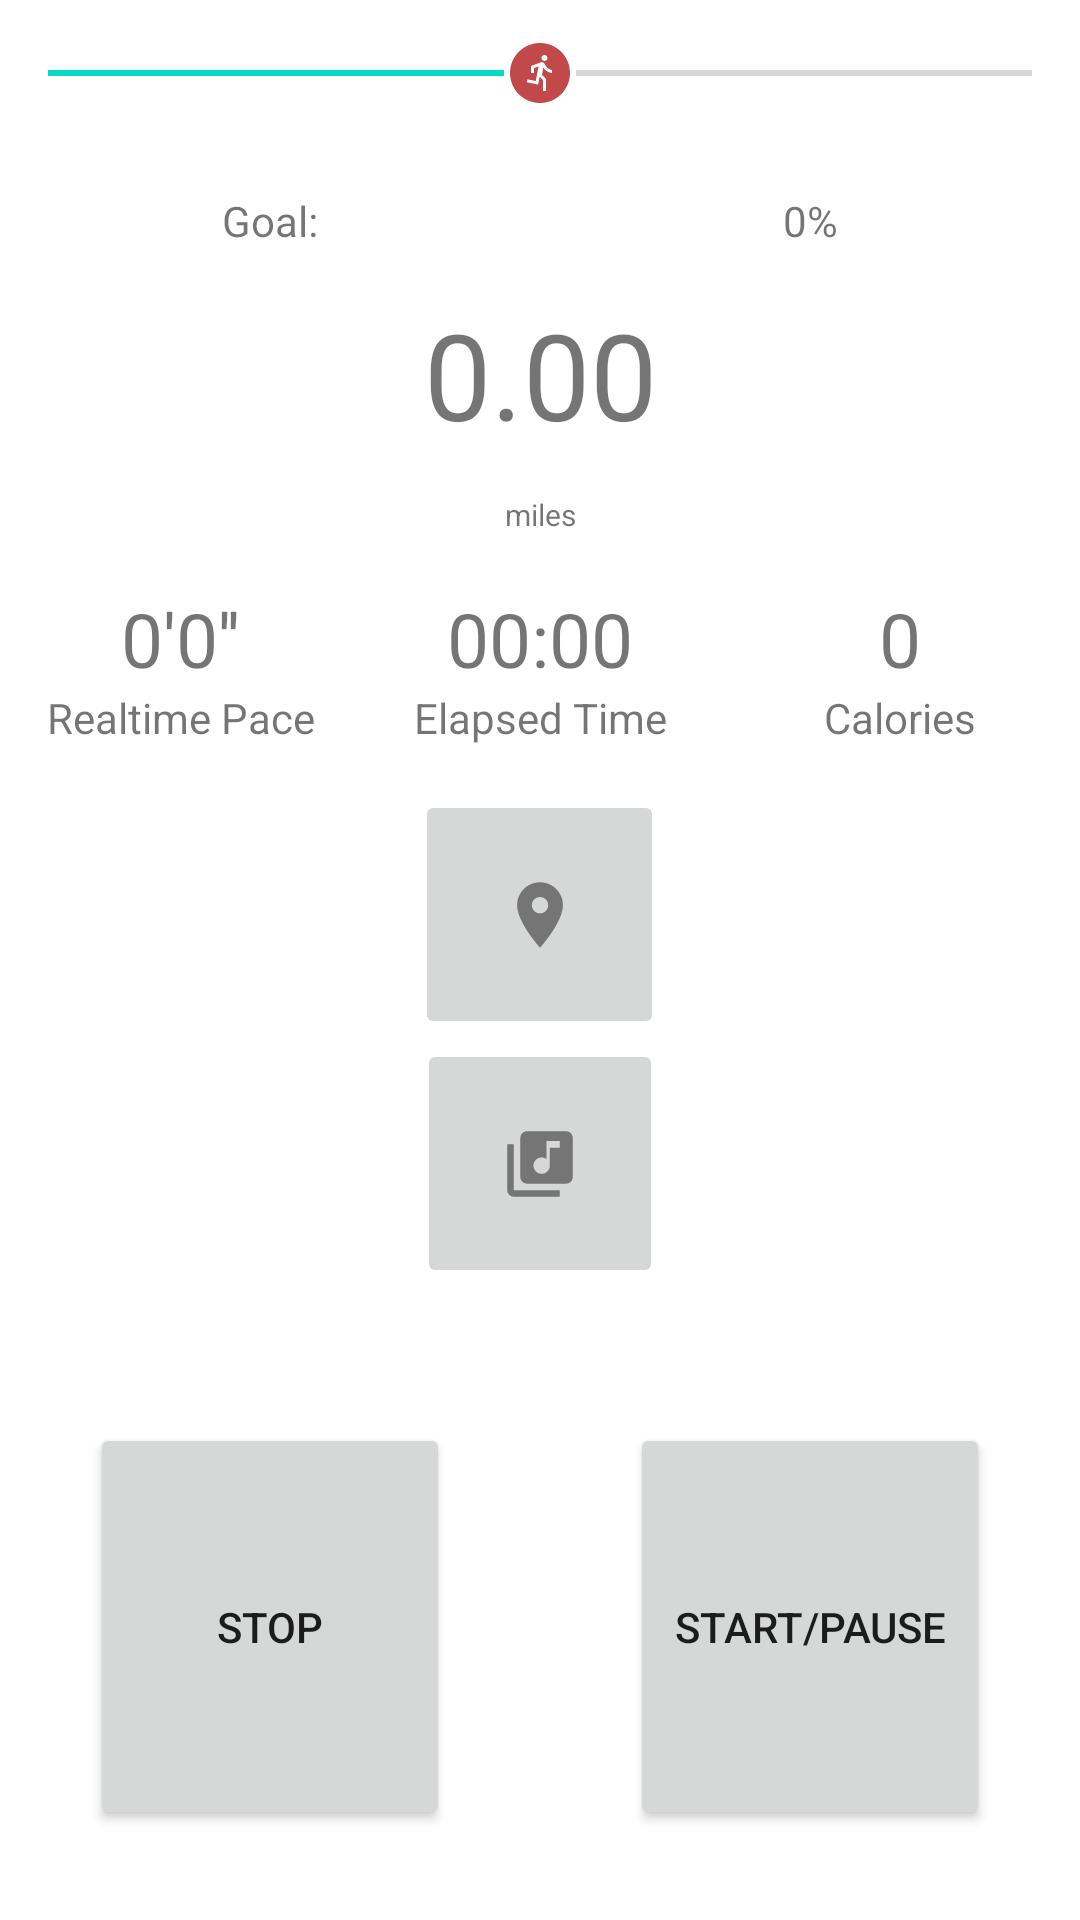

Point at icon controls on the screen. Image size 1080px x 1920px, points as [x,y].
location: [539,914]
music: [540,1163]
